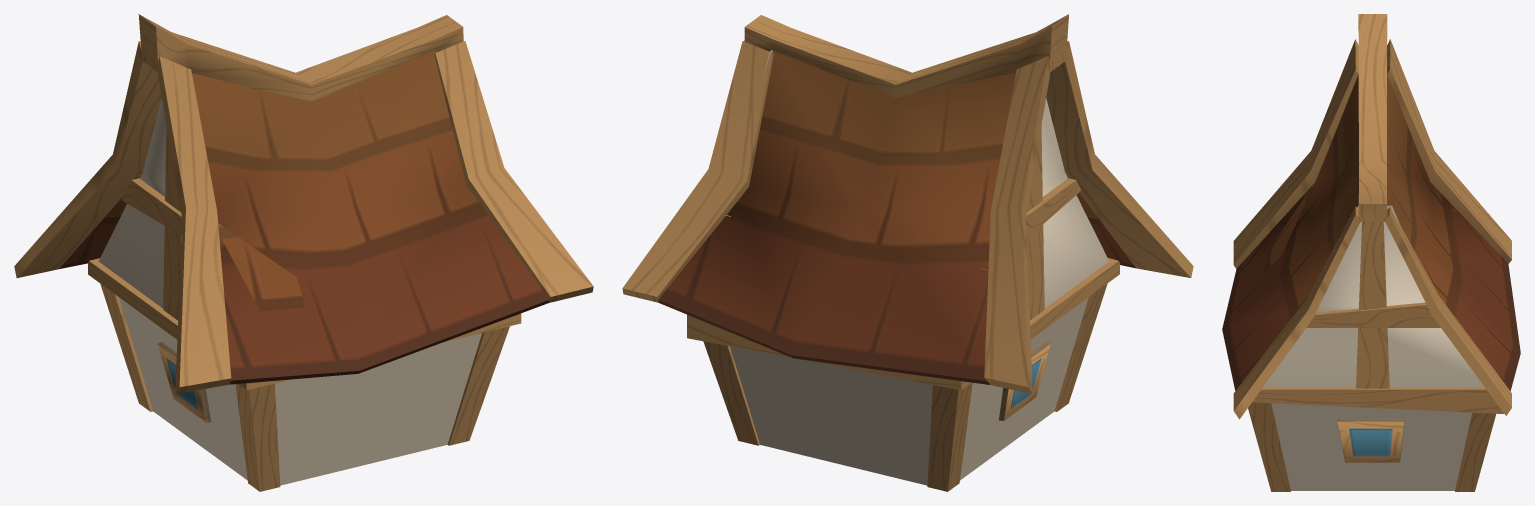
Rendered from building_house_lv4.FBX.
3 views of the same model, side by side, from view 1: azimuth 30°, elevation 25°; view 2: azimuth 150°, elevation 25°; view 3: azimuth 270°, elevation 25° (orthographic). The views are drawn at different scales.
Visible parts, largest first — view 1: building_house_main_lv4, building_house_lv4; view 2: building_house_main_lv4, building_house_lv4; view 3: building_house_main_lv4, building_house_lv4.
Part boxes in pixels (<box>): building_house_main_lv4: <box>98,50,549,485</box>; building_house_lv4: <box>14,14,593,491</box>; building_house_main_lv4: <box>658,50,1108,485</box>; building_house_lv4: <box>622,14,1193,491</box>; building_house_main_lv4: <box>1222,72,1520,490</box>; building_house_lv4: <box>1233,14,1511,491</box>.
Size of the model in its own units: 253 by 255 by 186.
